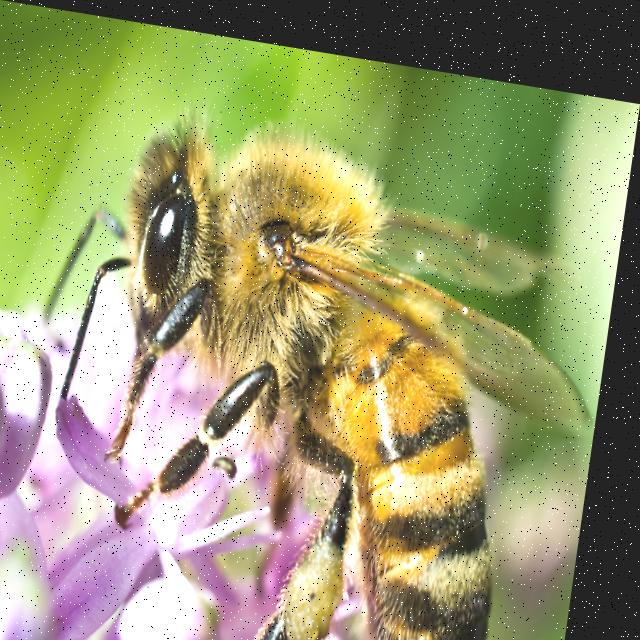Apis-mellifera-scutellata: (10, 48, 627, 640)
